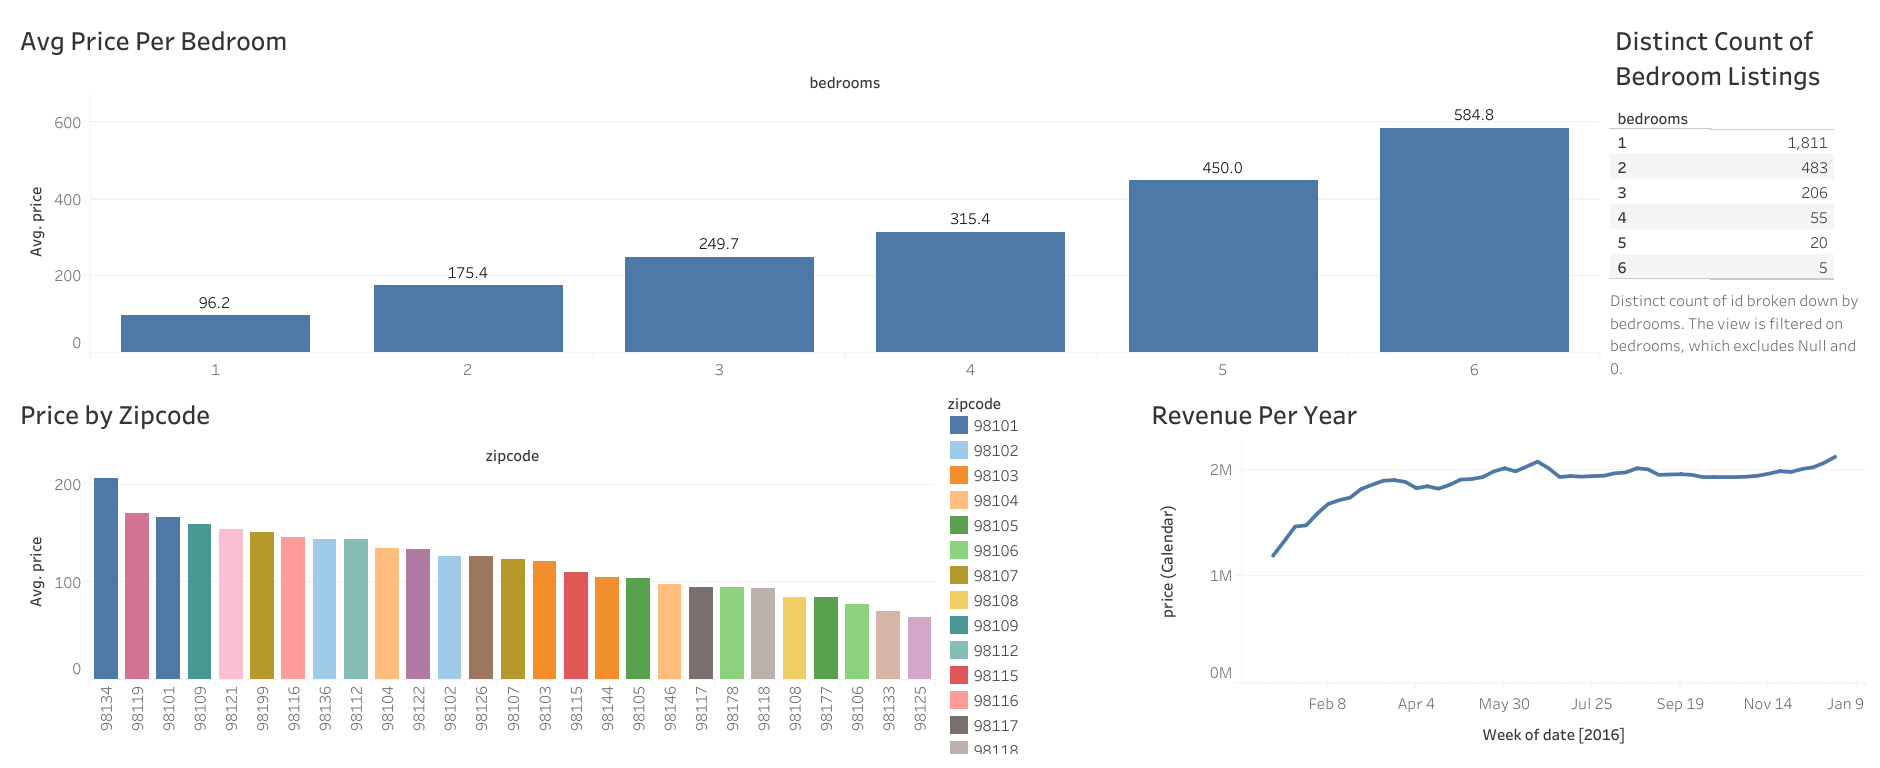

The dashboard page shown, as its layout file describes it:
{"tool":"tableau","page":{"name":"Dashboard 1","canvas":[1000,1000],"units":"permille","ordinal":0},"visuals":[{"type":"worksheet","title":"Sheet 3","mark":"Automatic","rows":["price"],"cols":["bedrooms"],"box":[4.8,10,848.5,490]},{"type":"worksheet","title":"Sheet 4","mark":"Automatic","rows":["bedrooms"],"box":[853.4,10,141.8,490]},{"type":"worksheet","title":"Sheet 1","mark":"Automatic","rows":["price"],"cols":["zipcode"],"box":[4.8,500,495.2,490]},{"type":"legend","title":"Sheet 1","param":"[federated.13f5mj21hanxll1aji8e11nzdt8z].[none:zipcode:ok]","box":[500,500,107,490]},{"type":"worksheet","title":"Sheet 2","mark":"Automatic","rows":["price (Calendar)"],"cols":["date"],"box":[607,500,388.2,490]}]}

Visuals, with their boxes on the dashboard's canvas, which has no fixed pixel size, in thousandths of its width and height (x1, y1, x2, y2). These are canvas units, not pixel positions in the 1880x768 screenshot, which may show the page scaled, cropped or inside an application window:
"Sheet 3" worksheet: {"left": 5, "top": 10, "right": 853, "bottom": 500}
"Sheet 4" worksheet: {"left": 853, "top": 10, "right": 995, "bottom": 500}
"Sheet 1" worksheet: {"left": 5, "top": 500, "right": 500, "bottom": 990}
"Sheet 1" legend: {"left": 500, "top": 500, "right": 607, "bottom": 990}
"Sheet 2" worksheet: {"left": 607, "top": 500, "right": 995, "bottom": 990}
